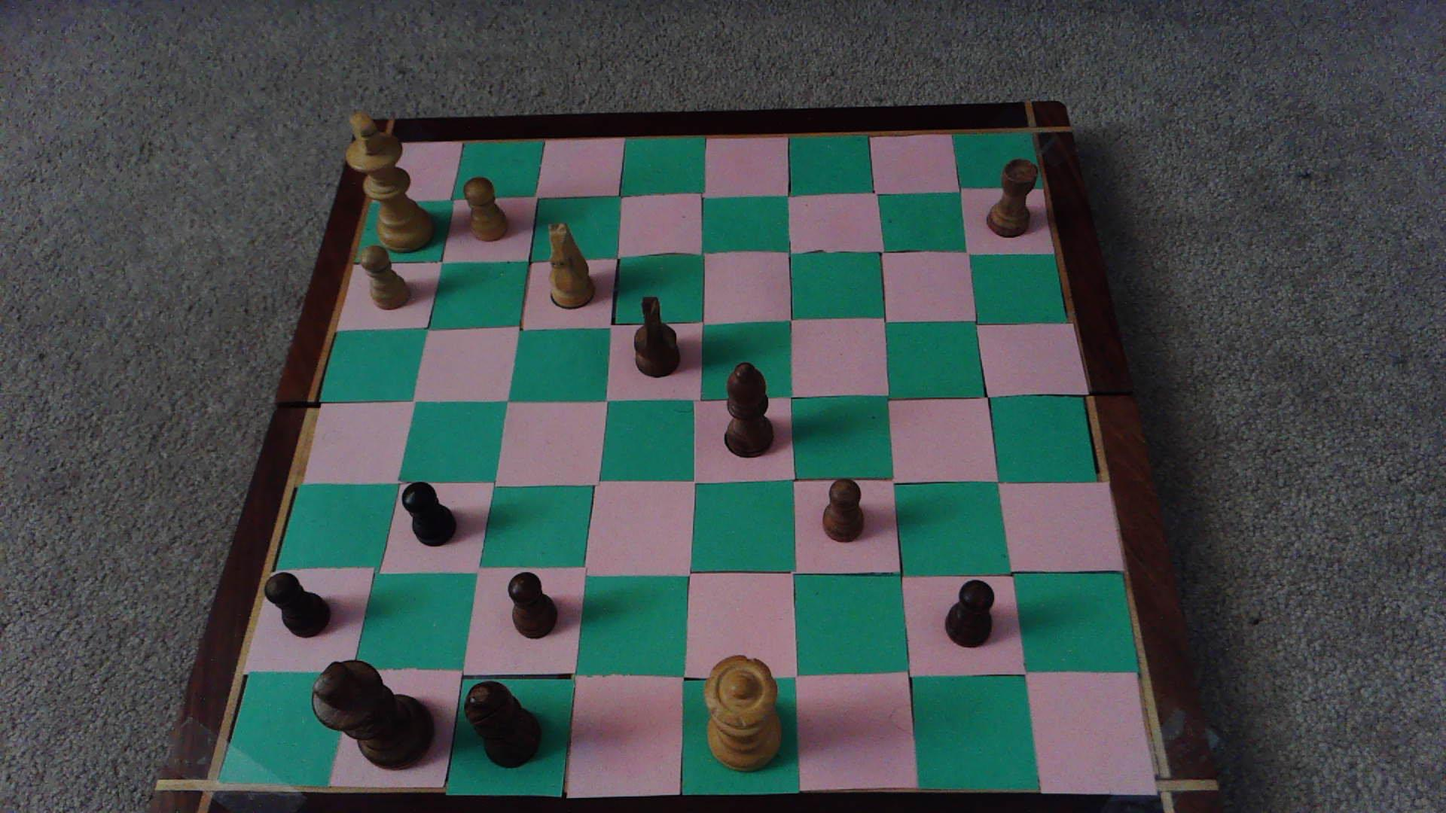dark_piece: (313, 660, 432, 768), (465, 681, 540, 767), (725, 362, 773, 455), (265, 573, 330, 636), (989, 159, 1037, 236), (634, 297, 679, 376), (403, 482, 455, 546), (508, 572, 557, 638), (946, 580, 993, 647), (822, 479, 863, 541)
white_piece: (346, 112, 435, 252), (704, 655, 780, 770), (550, 224, 593, 306), (360, 245, 409, 309), (464, 176, 506, 240)
